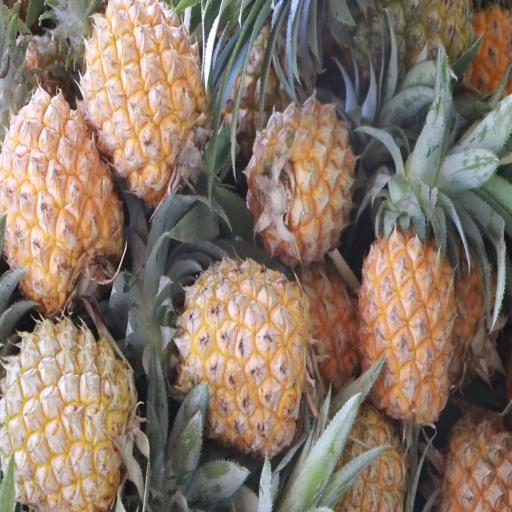Pineapple - v8 v1: (0, 82, 123, 308), (4, 321, 138, 512), (179, 260, 308, 449), (88, 2, 210, 194), (358, 219, 456, 420), (248, 98, 354, 262)
